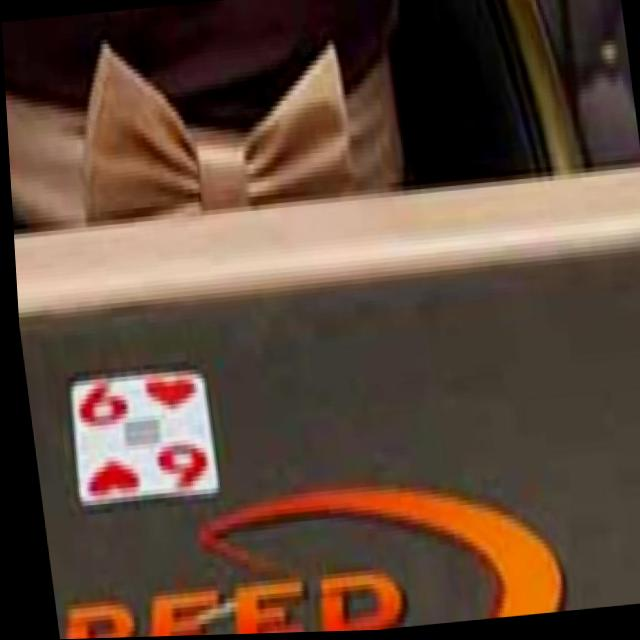Card-6: (65, 368, 210, 503)
